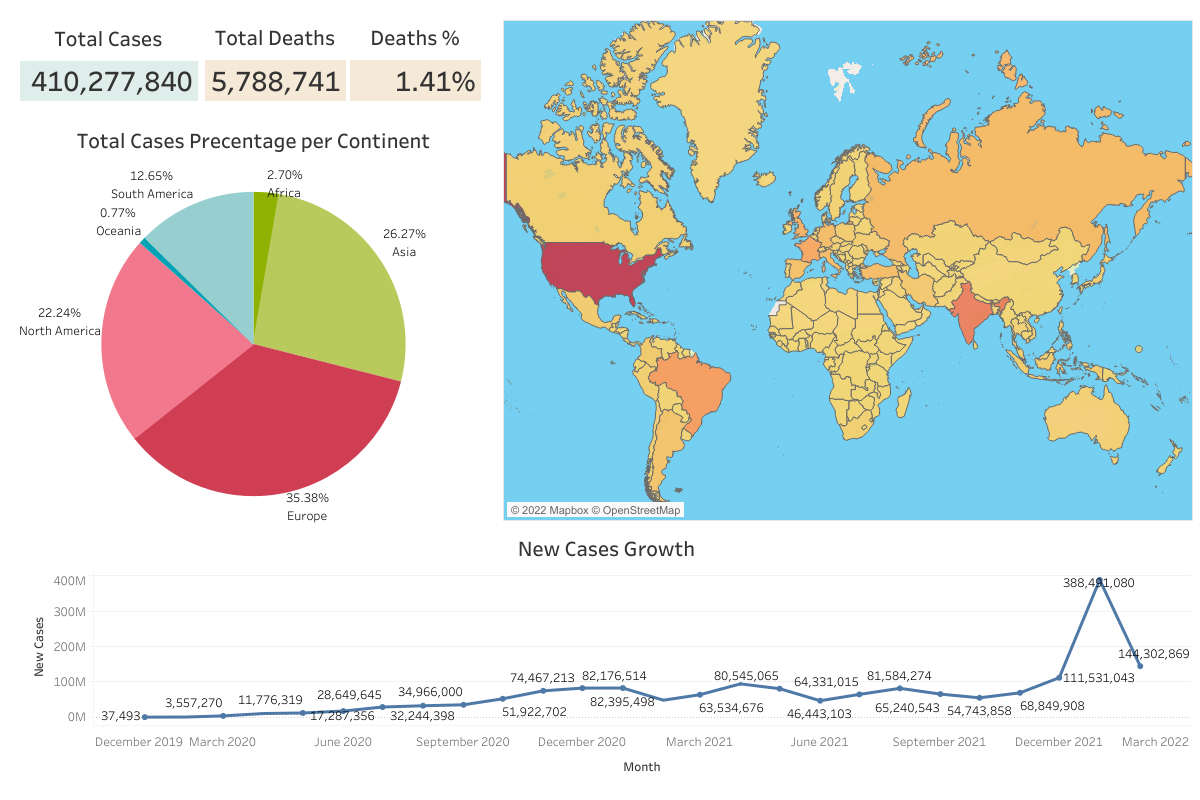

What the dashboard file says about the page in this screenshot:
{"tool":"tableau","page":{"name":"Dashboard 1","canvas":[1200,800],"ordinal":0},"visuals":[{"type":"worksheet","title":"Total Deaths","mark":"Automatic","box":[205,17,140,83]},{"type":"worksheet","title":"Deaths Precentage","mark":"Automatic","box":[350,17,130,83]},{"type":"worksheet","title":"Total Cases","mark":"Automatic","box":[20,18,177,82]},{"type":"worksheet","title":"Map","mark":"Multipolygon","box":[503,20,690,501]},{"type":"worksheet","title":"Total Cases Precentage per Continent","mark":"Pie","box":[19,120,469,405]},{"type":"worksheet","title":"New Cases Growth","mark":"Automatic","rows":["new_cases"],"cols":["date"],"box":[22,528,1169,254]}]}

Visuals, with their boxes in screenshot pixels (x1, y1, x2, y2), scaled from the page's 1200x800 canvas onto the 1200x800 screenshot:
"Total Deaths" worksheet: crop(205, 17, 345, 100)
"Deaths Precentage" worksheet: crop(350, 17, 480, 100)
"Total Cases" worksheet: crop(20, 18, 197, 100)
"Map" worksheet (Multipolygon marks): crop(503, 20, 1193, 521)
"Total Cases Precentage per Continent" worksheet (Pie marks): crop(19, 120, 488, 525)
"New Cases Growth" worksheet: crop(22, 528, 1191, 782)
